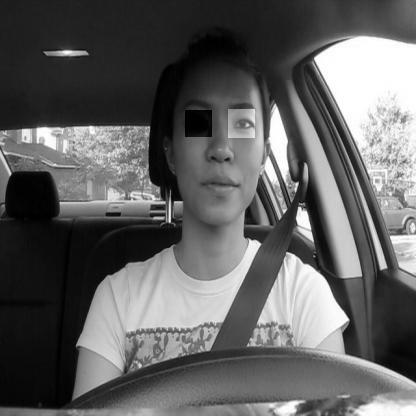seatbelt: (158, 26, 286, 351)
